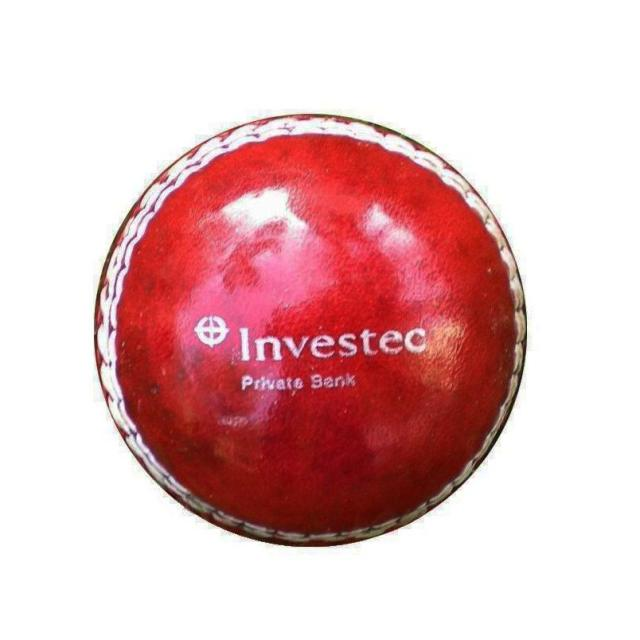ball: (93, 115, 533, 546)
